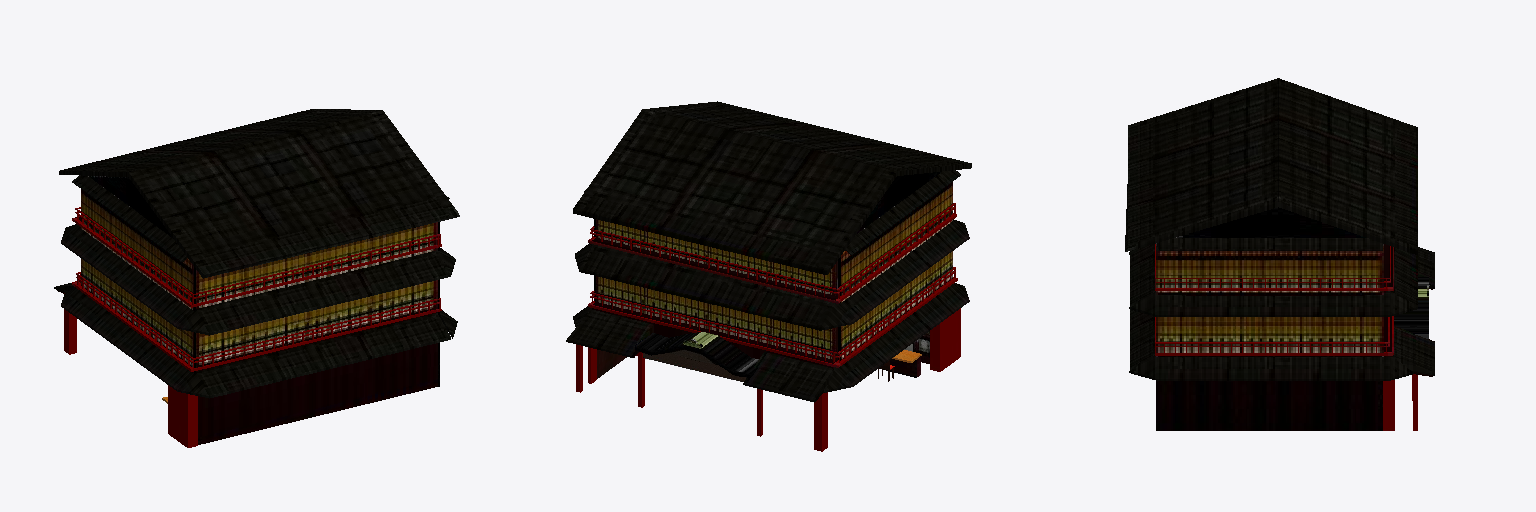
3 renders of one model, left to right at view 1: azimuth 30°, elevation 25°; view 2: azimuth 150°, elevation 25°; view 3: azimuth 270°, elevation 25°, orthographic.
Bounding box in the file's own units: 10.16 × 7.99 × 9.74.
Materials: 1 (1 with a texture image).